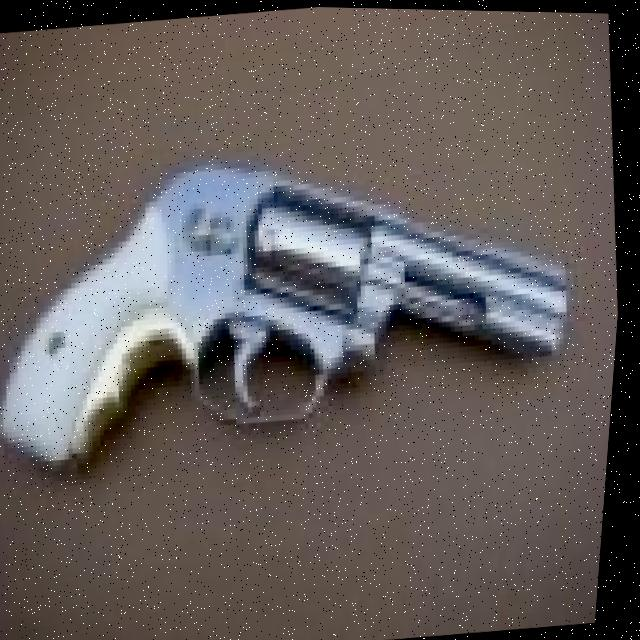pistol: (0, 119, 597, 493)
